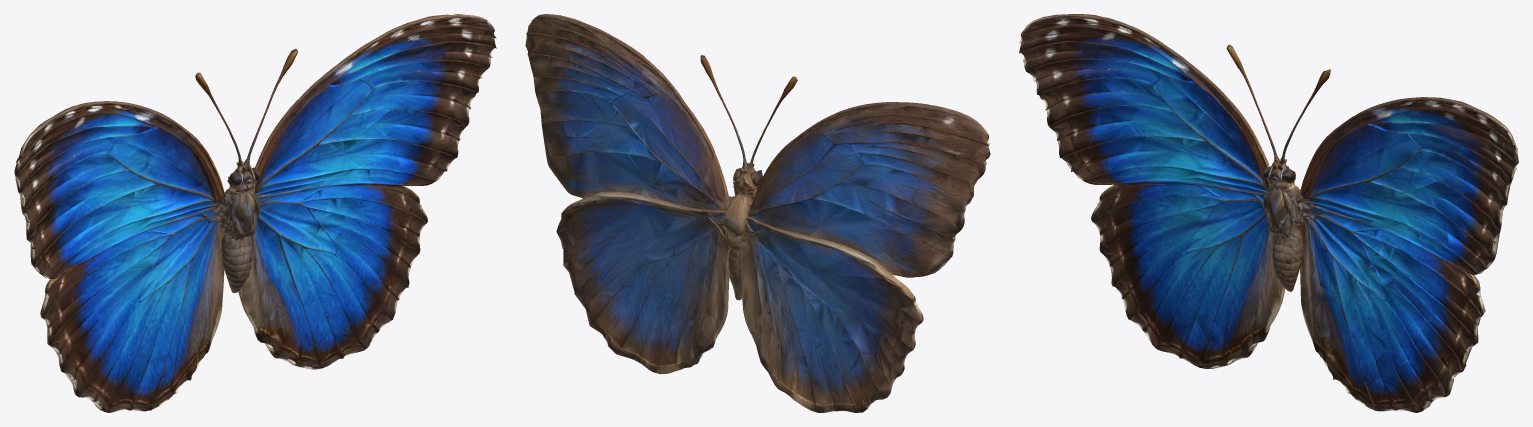
The model's file is blue-morpho-flight-v002.glb.
3 renders of one model, left to right at view 1: azimuth 30°, elevation 25°; view 2: azimuth 150°, elevation 25°; view 3: azimuth 330°, elevation 25°, orthographic. The views are drawn at different scales.
Visible parts, largest first — view 1: model; view 2: model; view 3: model.
Boxes of the visible parts, bbox=[...] form: model: bbox=[14, 14, 496, 412]; model: bbox=[525, 14, 990, 412]; model: bbox=[1019, 14, 1518, 412].
Bounding box in the file's own units: 1.89 × 1.26 × 0.231.
Materials: 1 (1 with a texture image).
